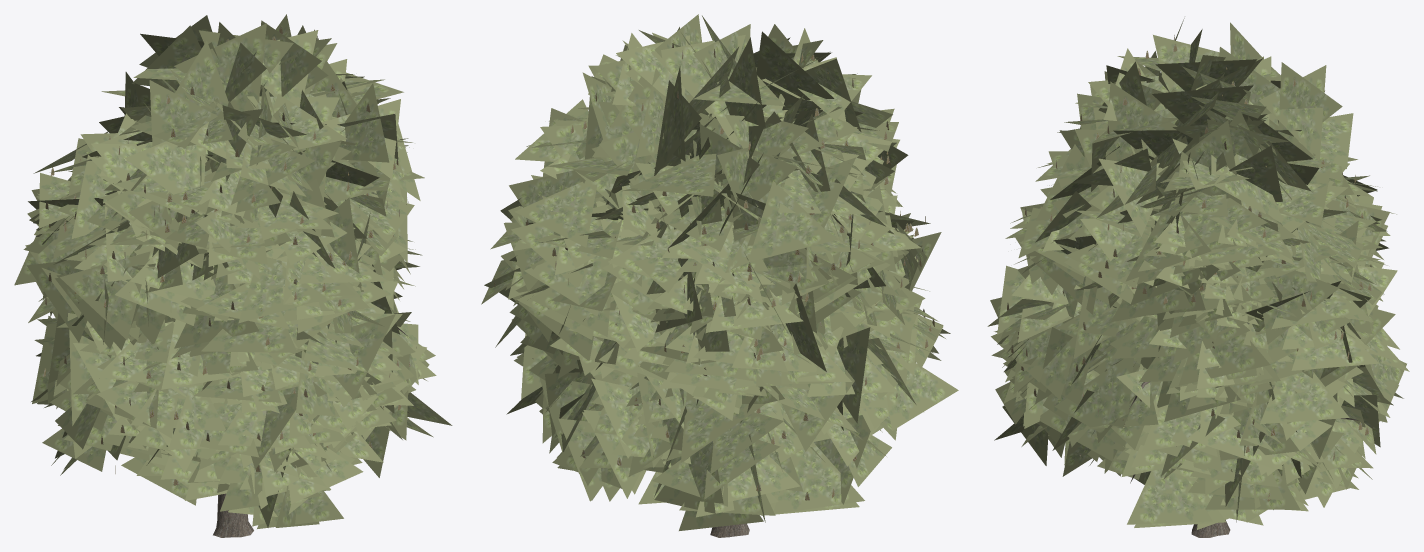
The model's file is Aesculus_Hippocastanum_Spring_Adult.glb.
3 renders of one model, left to right at view 1: azimuth 30°, elevation 25°; view 2: azimuth 150°, elevation 25°; view 3: azimuth 270°, elevation 25°, orthographic. The views are drawn at different scales.
Visible parts, largest first — view 1: Aesculus_Hippocastanum_Spring_Adult__LOD3; view 2: Aesculus_Hippocastanum_Spring_Adult__LOD3; view 3: Aesculus_Hippocastanum_Spring_Adult__LOD3.
Boxes of the visible parts, x1=… form: Aesculus_Hippocastanum_Spring_Adult__LOD3: x1=14, y1=14, x2=452, y2=537; Aesculus_Hippocastanum_Spring_Adult__LOD3: x1=481, y1=14, x2=958, y2=537; Aesculus_Hippocastanum_Spring_Adult__LOD3: x1=987, y1=18, x2=1409, y2=537.
Size of the model in its own units: 15.42 by 19.88 by 15.45.
Materials: 3 (3 with a texture image).
